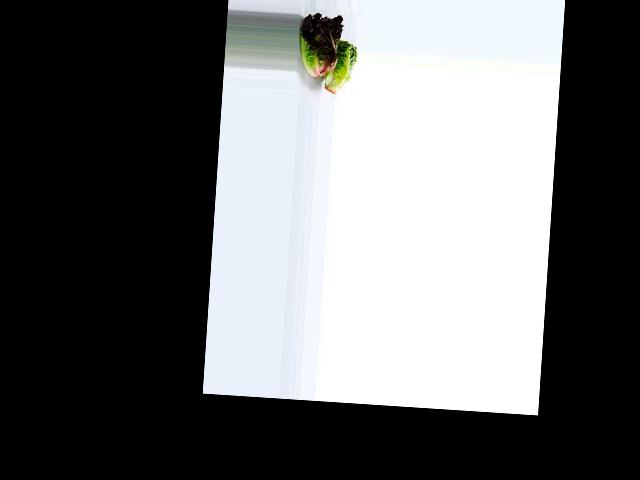lettuce: (321, 38, 358, 97)
